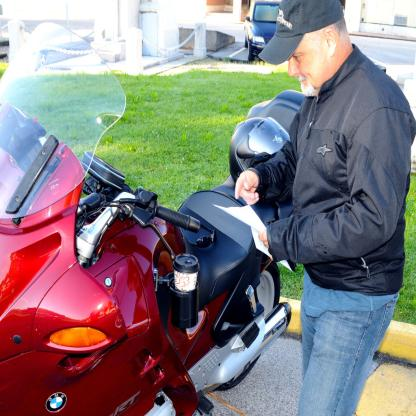Helmet: (233, 118, 300, 204)
